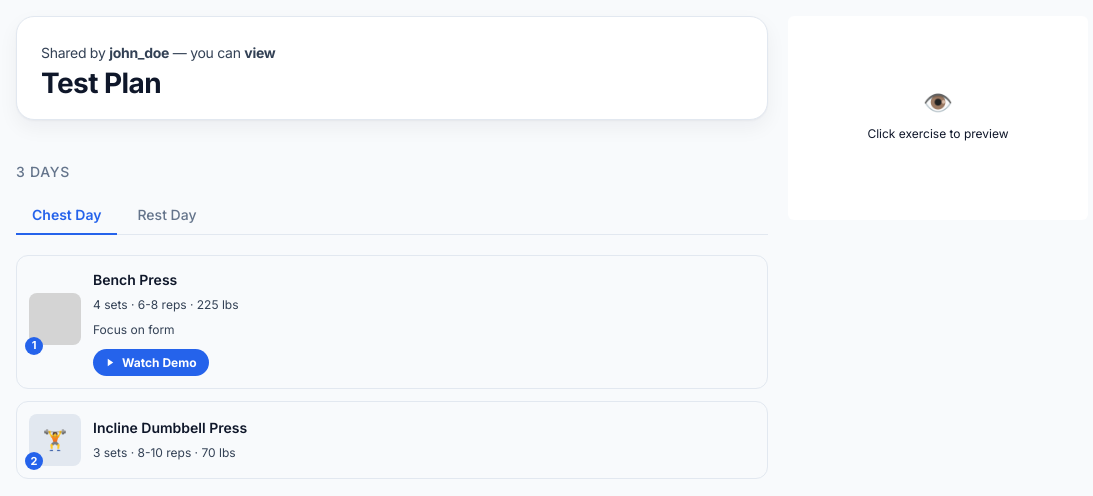
it: SharedPlanPage › Watch Demo button (Task 95) › clicking the button opens the same preview the row itself opens
Check: the text "Bench Press" is shown once, box [93,271,177,288]
Step 1. Click the button with aria-label "Watch demo for Bench Press" → {"x": 151, "y": 363}, box [93,349,208,376]
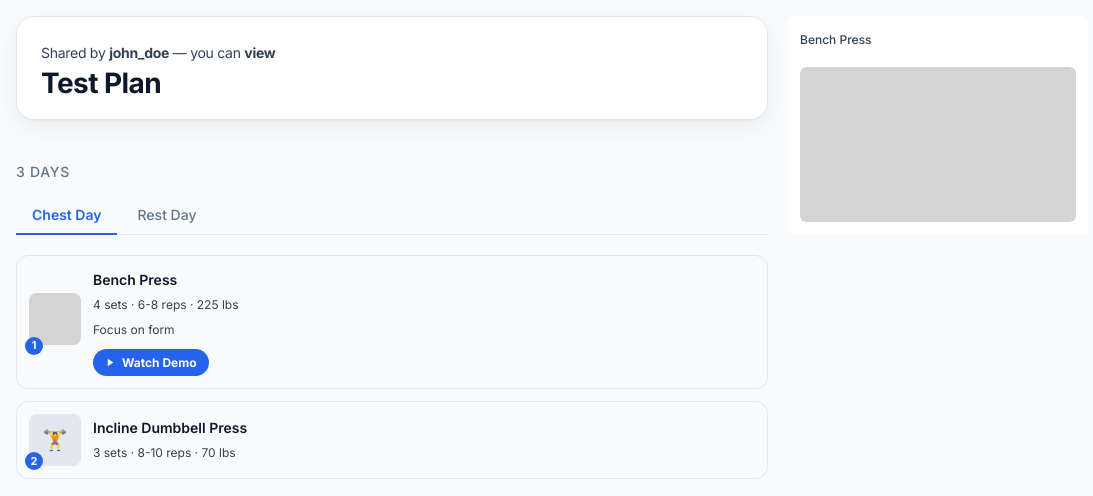
Check: the text "Bench Press" is shown 2 times, box [93,271,177,288]; [800,32,872,47]
